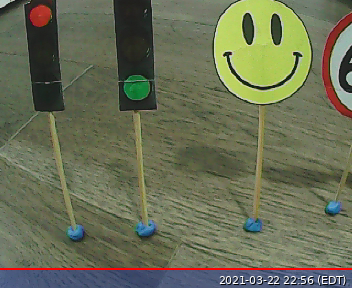Green Traffic Light: (110, 1, 158, 112)
Person: (211, 1, 312, 105)
Red Traffic Light: (22, 1, 65, 112)
